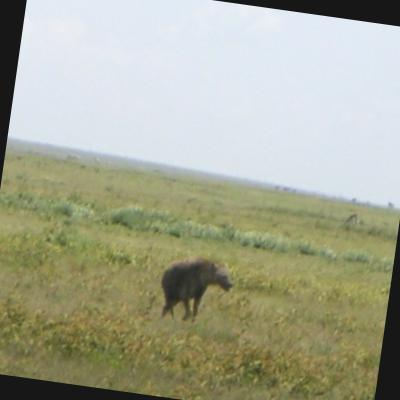hyenas: (137, 242, 243, 339)
